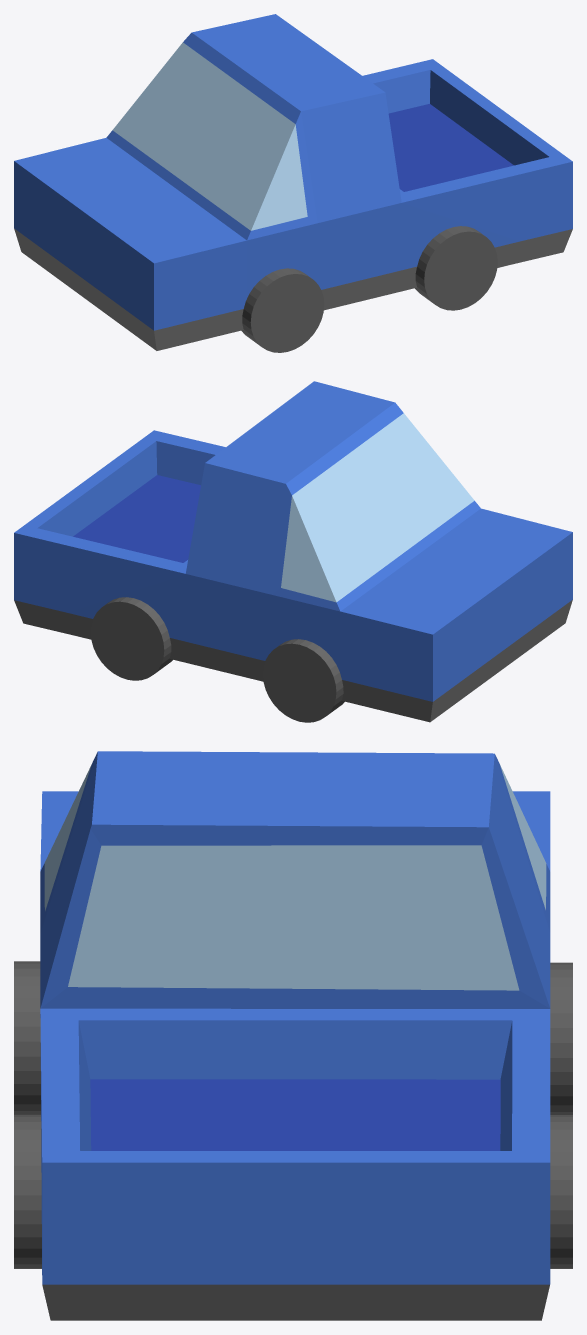
Rendered from truck_blue (1).fbx.
The picture shows the model from 3 angles, top to bottom: view 1: azimuth 30°, elevation 25°; view 2: azimuth 150°, elevation 25°; view 3: azimuth 270°, elevation 25°; orthographic projection. The views are drawn at different scales.
Visible parts, largest first — view 1: Cube, Circle; view 2: Cube, Circle; view 3: Cube, Circle.
Part boxes in pixels (<box>): Cube: <box>14,14,572,350</box>; Circle: <box>241,226,497,352</box>; Cube: <box>14,381,572,722</box>; Circle: <box>90,597,344,722</box>; Cube: <box>40,751,550,1320</box>; Circle: <box>14,961,572,1268</box>.
Size of the model in its own units: 623 by 305 by 397.
